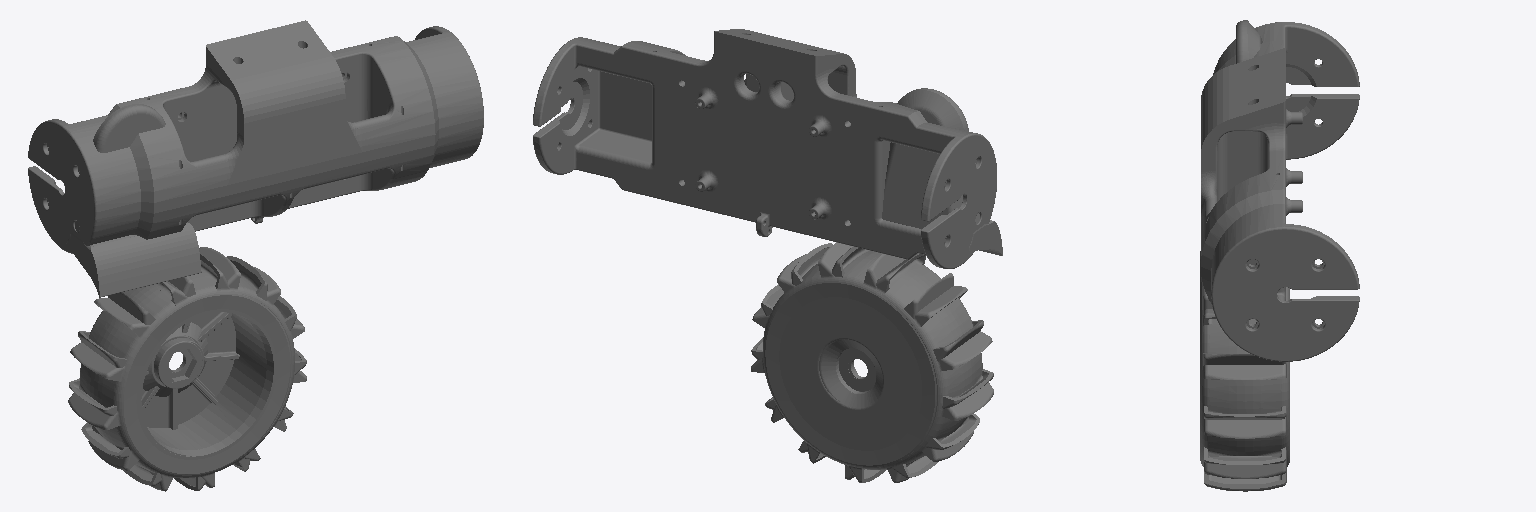
The robot description file, URDF, robot "riley_robot":
<?xml version="1.0"?>
<robot name="riley_robot">
  <material name="grey">
      <color rgba="0.5 0.5 0.5 1.0" />
  </material>
  
  
  <link name="base_link">
    <visual>
      <origin xyz="0 0 0" rpy="0 0 0" />
      <geometry>
        <mesh filename="package://riley/models/riley/meshes/MiddlepartV2.STL"/>
      </geometry>
      <material name="grey"/>
    </visual>
  </link>
  
  <link name="tail_link">
    <visual>
      <origin xyz="0 0 0" rpy="0 0 0" />
      <geometry> 
        <mesh filename="package://riley/models/riley/meshes/MiddlepartTailV2.STL"/>
      </geometry>
      <material name="grey"/>
    </visual>
  </link>
  
  <joint name="tail_link_joint" type="fixed">
    <origin xyz="-0.093 0.0 -0.0115" rpy="0 0 0" />
    <parent link="base_link"/>
    <child link="tail_link" />
  </joint>

  <link name="left_wheel">
      <visual>
        <origin xyz="0 0 0" rpy="0 0 0" />
        <geometry>
          <mesh filename="package://riley/models/riley/meshes/ReelyBuggyWheel_Left.STL"/>
        </geometry>
        <material name="grey"/>
      </visual>
  </link>
    
  <link name="right_wheel">
      <visual>
        <origin xyz="0 0 0" rpy="0 0 0" />
        <geometry>
          <mesh filename="package://riley/models/riley/meshes/ReelyBuggyWheel_Right.STL"/>
        </geometry>
        <material name="grey"/>
      </visual>
  </link>
    
  <joint name="left_wheel_joint" type="continuous">
      <axis xyz="0 1 0" />
      <parent link="base_link"/>
      <child link="left_wheel"/>
      <origin xyz="0 0.14 -0.01575" rpy="-1.57 0 0"/>
  </joint>
    
  <joint name="right_wheel_joint" type="continuous">
      <axis xyz="0 1 0" />
      <parent link="base_link"/>
      <child link="right_wheel"/>
      <origin xyz="0 -0.14 -0.01575" rpy="-1.57 0 0"/>
  </joint>
  
  <link name="back_wheel">
    <visual>
      <origin xyz="0 0 0" rpy="0 0 0" />
      <geometry>
        <sphere radius="0.03"/>
        <mesh filename="package://riley/models/meshes/SwivelWheel-SwivelWheelWheel-1.STL"/>
      </geometry>
      <material name="grey"/>
    </visual>
  </link>
  
  <joint name="back_wheel_joint" type="fixed">
    <parent link="tail_link"/>
    <child link="back_wheel"/>
    <origin xyz="-0.04 0.0 -0.039" rpy="0 0 0"/>
  </joint>
    

  <link name="imu_link">
    <visual>
      <origin xyz="0 0 0" rpy="0 0 0" />
      <geometry>
        <mesh filename="package://riley/models/riley/meshes/RILey_assembly-PCB-1MPU9250.STEP-1V1.STEP-1.STL"/>
      </geometry>
    </visual>
  </link>

  <joint name="imu_joint" type="fixed">
    <parent link="base_link"/>
    <child link="imu_link"/>
    <origin xyz="0 0.01 0"/>
  </joint>

  
  <link name="lidar_link">
    <visual>
      <origin xyz="0 0 0" rpy="0 0 0"/>
      <geometry>
         <mesh filename="package://riley/models/riley/meshes/RILey_assembly%20-%20LD06_Assembly-1%20LD06_LiDAR-1%20LD06_LiDAR-1.STL"/>
      </geometry>
    </visual>
  </link>
    
  <joint name="lidar_joint" type="fixed">
    <parent link="base_link"/>
    <child link="lidar_link"/>
    <origin xyz="0 0 0.054" rpy="0 0 0"/>
  </joint>
  
  
  <link name="camera_link">
    <visual>
      <origin xyz="0 0 0" rpy="0 0 0"/>
      <geometry>
        <mesh filename="package://riley/models/riley/meshes/RILey_assembly-Cam V2.1 v1.step-1.STL"/>
      </geometry>
    </visual>
  </link>

  
  <joint name="camera_joint" type="fixed">
    <parent link="base_link"/>
    <child link="camera_link"/>
    <origin xyz="0.045 0 0.03" rpy="0 0 0"/>
  </joint>

  <link name="camera_depth_frame"/>

  <joint name="camera_depth_joint" type="fixed">
    <origin xyz="0 0 0" rpy="-1.57 0 -1.57"/>
    <parent link="camera_link"/>
    <child link="camera_depth_frame"/>
  </joint>

</robot>

--- Facts derived from the render (not from the file) ---
The picture shows the robot from 3 angles, left to right: view 1: azimuth 30°, elevation 25°; view 2: azimuth 150°, elevation 25°; view 3: azimuth 270°, elevation 25°; orthographic projection.
Model riley_robot with 9 links and 8 joints (2 continuous, 6 fixed), rooted at base_link, posed every joint at zero.
Links seen in each view (by area): view 1: base_link, right_wheel, tail_link, left_wheel; view 2: base_link, left_wheel, right_wheel, tail_link; view 3: base_link, left_wheel, right_wheel, tail_link.
Link boxes in pixels (x1,y1,x2,y2): base_link: (28,20,483,253); right_wheel: (68,254,306,491); tail_link: (66,104,201,297); left_wheel: (69,247,306,490); base_link: (533,29,996,268); left_wheel: (751,242,993,482); right_wheel: (751,243,993,482); tail_link: (882,88,1002,255); base_link: (1201,22,1359,361); left_wheel: (1201,282,1289,491); right_wheel: (1200,251,1285,488); tail_link: (1236,20,1262,63).
Size in the robot's own frame: 230 by 74.97 by 233 metres.
Meshes: 7 distinct files referenced, 4 mesh visuals loaded (4 binary STL); not drawn: 3 (reference not matched to a file when rendering).
